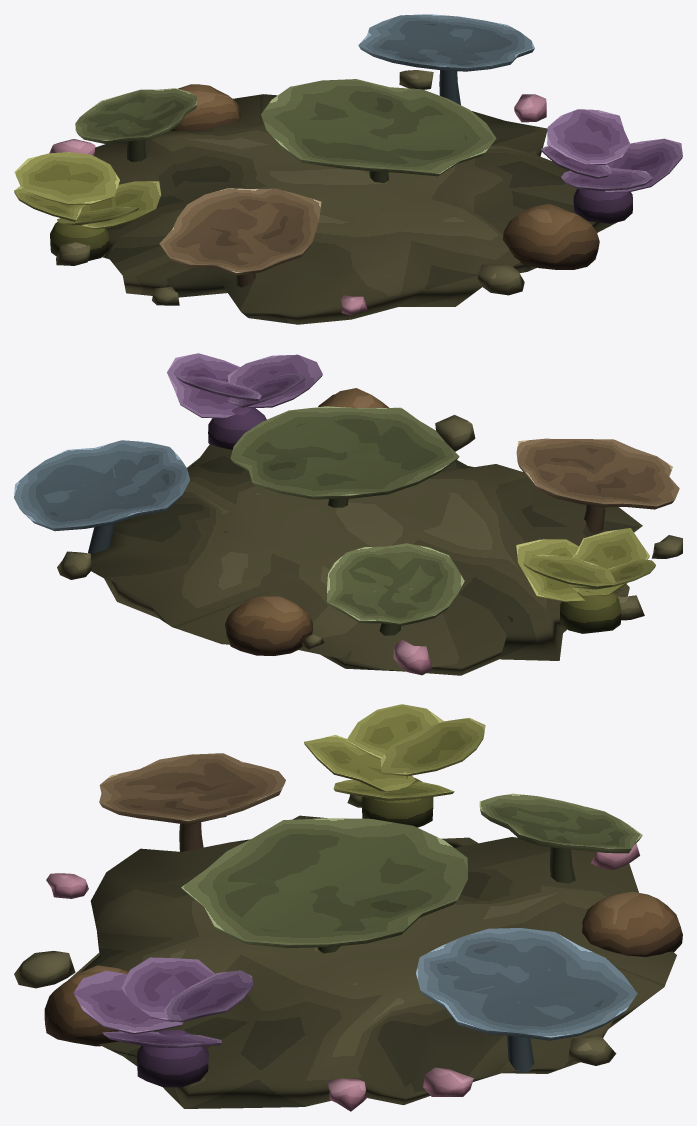
The picture shows the model from 3 angles, top to bottom: view 1: azimuth 30°, elevation 25°; view 2: azimuth 150°, elevation 25°; view 3: azimuth 270°, elevation 25°; orthographic projection. The views are drawn at different scales.
Visible parts, largest first — view 1: coral; view 2: coral; view 3: coral.
Boxes of the visible parts, <box> form: coral: <box>14,14,682,324</box>; coral: <box>14,353,682,675</box>; coral: <box>14,704,682,1111</box>.
Bounding box in the file's own units: 4.57 × 0.8334 × 3.87.
1 material, 1 textured.
